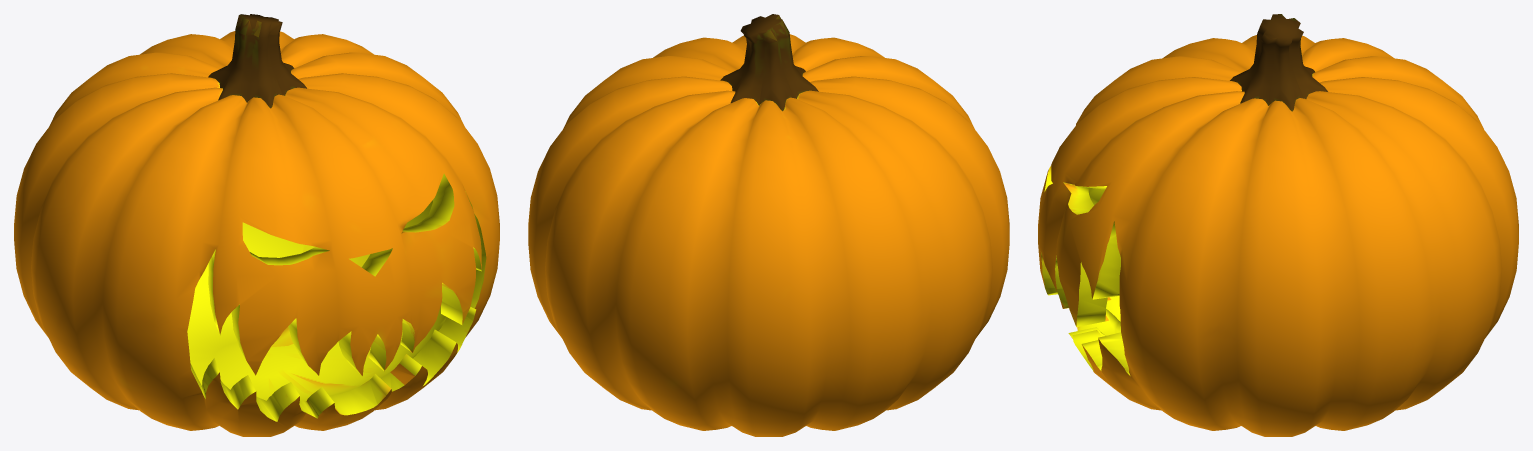
The model's file is pumpkin.fbx.
3 renders of one model, left to right at view 1: azimuth 30°, elevation 25°; view 2: azimuth 150°, elevation 25°; view 3: azimuth 270°, elevation 25°, orthographic.
Parts seen in each view (by area): view 1: Halloween_Pumpkin; view 2: Halloween_Pumpkin; view 3: Halloween_Pumpkin.
Boxes of the visible parts, box(x1,y1,x2,y2) form: Halloween_Pumpkin: box(14, 14, 499, 436); Halloween_Pumpkin: box(528, 14, 1009, 436); Halloween_Pumpkin: box(1038, 14, 1518, 436).
Size of the model in its own units: 117 by 99.16 by 117.
